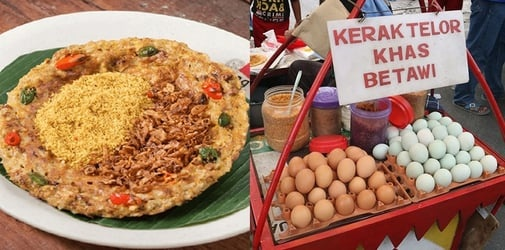kerak_telor: (0, 34, 249, 223)
